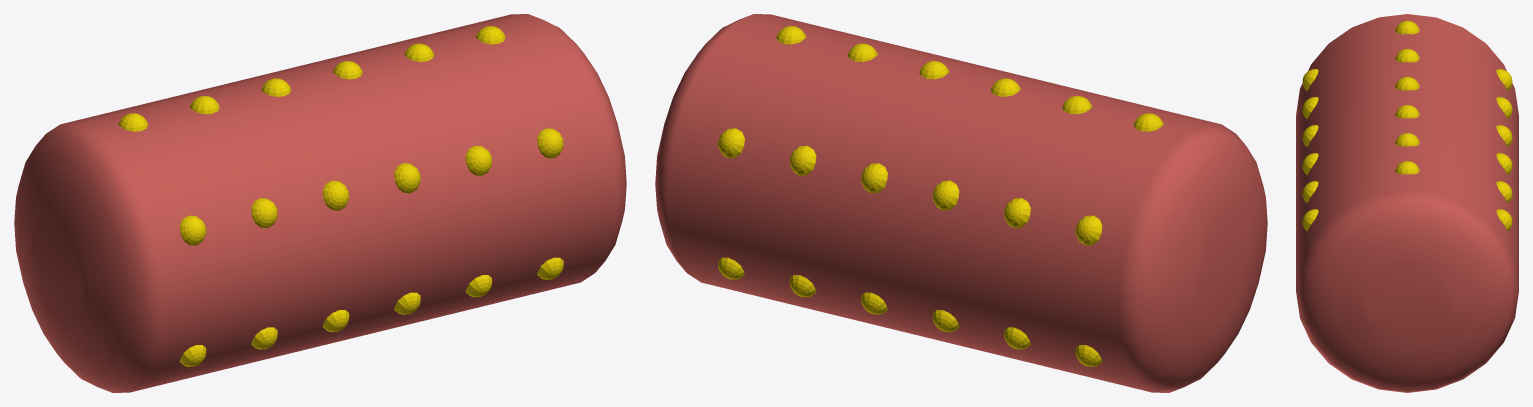
The model's file is Obstacle1.fbx.
3 views of the same model, side by side, from view 1: azimuth 30°, elevation 25°; view 2: azimuth 150°, elevation 25°; view 3: azimuth 270°, elevation 25° (orthographic). The views are drawn at different scales.
Parts seen in each view (by area): view 1: Obstacle1, pSphere31, pSphere33, pSphere36, pSphere34, pSphere32, pSphere35; view 2: Obstacle1, pSphere7, pSphere9, pSphere12, pSphere10, pSphere8, pSphere11; view 3: Obstacle1, pSphere3, pSphere4, pSphere5, pSphere6, pSphere2, pSphere1, pSphere9, pSphere33, pSphere7, pSphere8, pSphere10 (+7 smaller).
Part boxes in pixels (bbox=[...]): Obstacle1: bbox=[14, 14, 626, 392]; pSphere31: bbox=[179, 215, 206, 245]; pSphere33: bbox=[322, 180, 349, 210]; pSphere36: bbox=[537, 128, 563, 158]; pSphere34: bbox=[394, 163, 420, 193]; pSphere32: bbox=[251, 198, 277, 228]; pSphere35: bbox=[465, 145, 492, 175]; Obstacle1: bbox=[655, 14, 1267, 392]; pSphere7: bbox=[1075, 215, 1102, 245]; pSphere9: bbox=[932, 180, 959, 210]; pSphere12: bbox=[718, 128, 744, 158]; pSphere10: bbox=[861, 163, 887, 193]; pSphere8: bbox=[1004, 198, 1030, 228]; pSphere11: bbox=[789, 145, 816, 175]; Obstacle1: bbox=[1296, 14, 1518, 392]; pSphere3: bbox=[1395, 77, 1419, 90]; pSphere4: bbox=[1395, 105, 1419, 118]; pSphere5: bbox=[1395, 133, 1419, 146]; pSphere6: bbox=[1395, 161, 1419, 174]; pSphere2: bbox=[1395, 49, 1419, 62]; pSphere1: bbox=[1395, 20, 1419, 34]; pSphere9: bbox=[1496, 125, 1512, 146]; pSphere33: bbox=[1302, 125, 1318, 146]; pSphere7: bbox=[1496, 69, 1512, 90]; pSphere8: bbox=[1496, 97, 1512, 118]; pSphere10: bbox=[1496, 153, 1512, 174].
Size of the model in its own units: 14.29 by 6.99 by 6.53.
